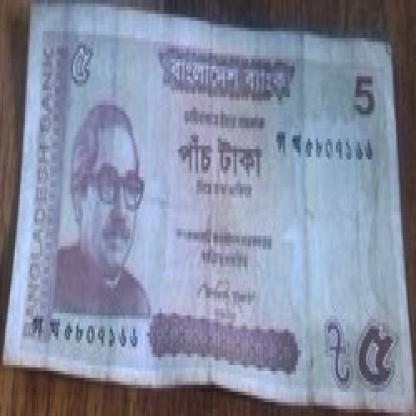Five Taka: (356, 309, 394, 398), (60, 28, 98, 94), (348, 66, 378, 118)
